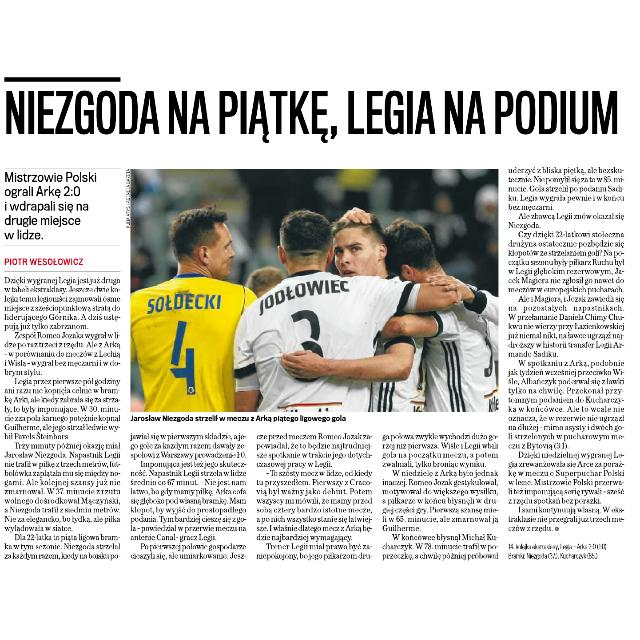author: (2, 252, 90, 268)
body: (501, 166, 627, 534), (1, 274, 125, 562), (128, 430, 250, 562), (378, 432, 500, 562), (254, 430, 374, 560)
caption: (130, 412, 350, 426)
image: (129, 166, 499, 412)
lead: (1, 168, 115, 242)
title: (3, 84, 623, 148)
